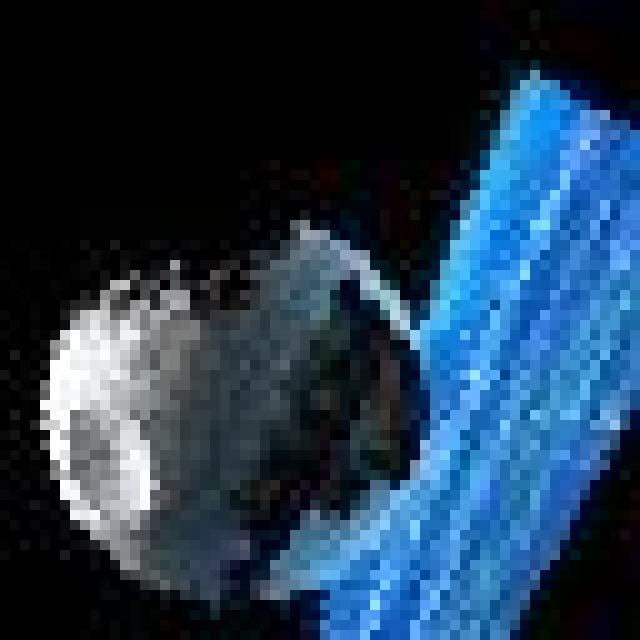Death Star: (46, 217, 440, 602)
